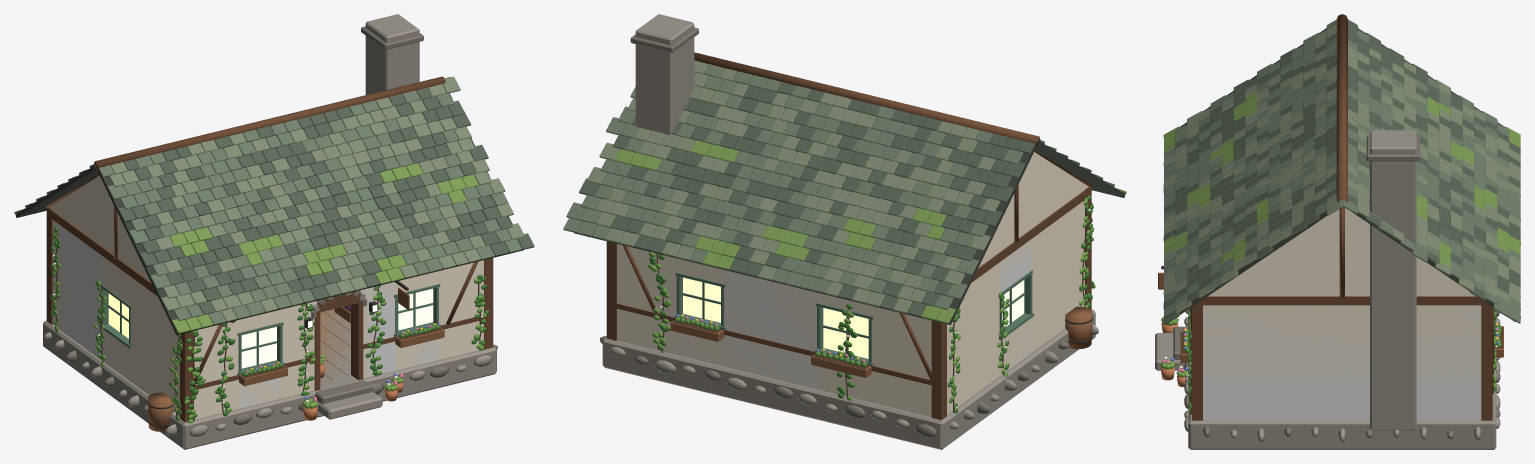
Rendered from cottage.glb.
3 views of the same model, side by side, from view 1: azimuth 30°, elevation 25°; view 2: azimuth 150°, elevation 25°; view 3: azimuth 270°, elevation 25° (orthographic). The views are drawn at different scales.
Parts seen in each view (by area): view 1: Cottage, WallCol-colonly.019, WallCol-colonly.005, WallCol-colonly.001, WallCol-colonly.006; view 2: Cottage, WallCol-colonly.012, WallCol-colonly.018; view 3: Cottage, WallCol-colonly.020.
Boxes of the visible parts, <box> form: Cottage: <box>14,14,534,449</box>; WallCol-colonly.019: <box>54,222,102,360</box>; WallCol-colonly.005: <box>360,282,396,377</box>; WallCol-colonly.001: <box>240,377,280,408</box>; WallCol-colonly.006: <box>398,339,437,367</box>; Cottage: <box>563,14,1126,449</box>; WallCol-colonly.012: <box>723,270,818,389</box>; WallCol-colonly.018: <box>1000,240,1030,291</box>; Cottage: <box>1155,14,1520,449</box>; WallCol-colonly.020: <box>1206,305,1478,419</box>.
Size of what is drawn, in the model's own units: 10.54 by 7.95 by 8.6.
